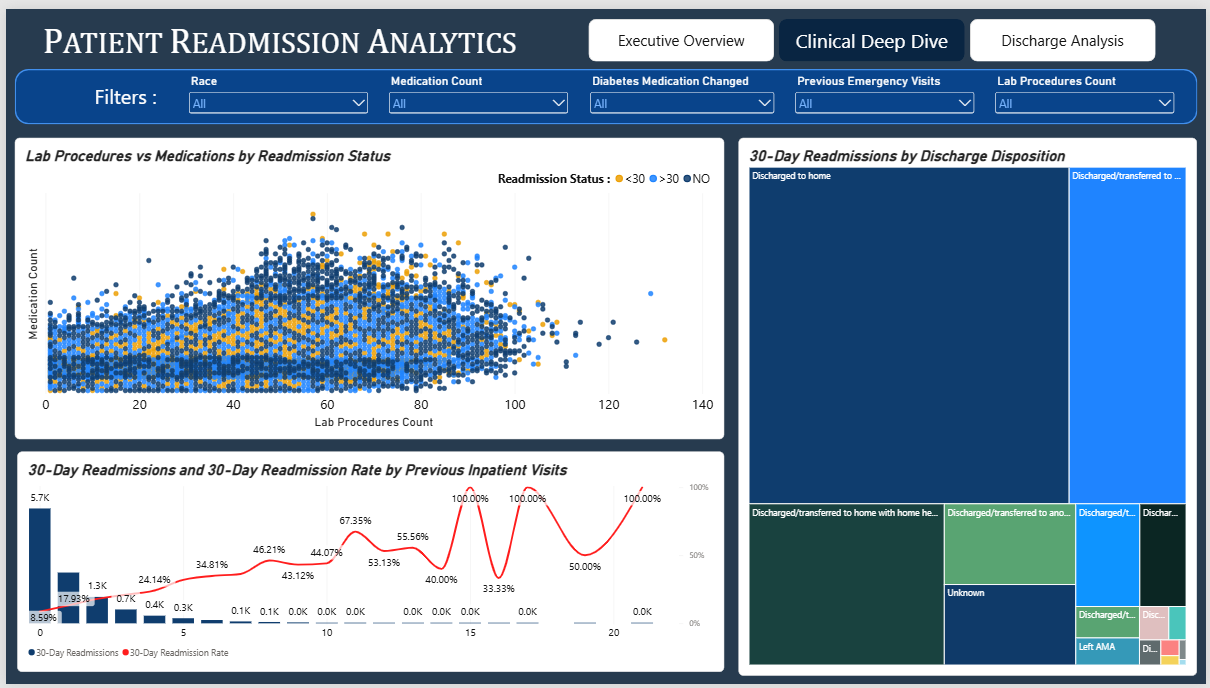

The page's visual inventory and layout, read from the dashboard file:
{"tool":"powerbi","page":{"name":"Clinical Deep Dive","canvas":[1920,1080],"ordinal":1},"visuals":[{"type":"textbox","box":[36.4,15.9,804.5,86.4],"z":0},{"type":"pageNavigator","box":[932,16.3,908.4,68.8],"z":1000},{"type":"shape","box":[13.5,96.2,1892.3,88.5],"z":2000},{"type":"lineStackedColumnComboChart","fields":{"Category":["fact_readmission.Previous Inpatient Visits"],"Y":["Measures Table.30-Day Readmissions"],"Y2":["Measures Table.30-Day Readmission Rate"]},"box":[17.6,707.8,1131.4,352.9],"z":3000},{"type":"treemap","fields":{"Group":["dim_discharge_disposition.Discharge Disposition"],"Values":["Measures Table.30-Day Readmissions"]},"box":[1172.5,205.9,733.3,860.8],"z":4000},{"type":"scatterChart","title":"Lab Procedures vs Medications by Readmission Status","fields":{"X":["fact_readmission.Lab Procedures Count"],"Y":["fact_readmission.Medication Count"],"Series":["fact_readmission.Readmission Status"]},"box":[13.7,205.9,1135.3,482.4],"z":5000},{"type":"textbox","box":[76.5,117.6,239.2,66.7],"z":6000},{"type":"slicer","fields":{"Values":["fact_readmission.Race"]},"box":[288.2,104.3,296.2,73.1],"z":7000},{"type":"slicer","fields":{"Values":["fact_readmission.Medication Count"]},"box":[608.8,104.3,296.2,73.1],"z":8000},{"type":"slicer","fields":{"Values":["fact_readmission.Diabetes Medication Changed"]},"box":[929.4,104.5,303.9,72.5],"z":9000},{"type":"slicer","fields":{"Values":["fact_readmission.Previous Emergency Visits"]},"box":[1257.8,104.3,296.2,73.1],"z":10000},{"type":"slicer","fields":{"Values":["fact_readmission.Lab Procedures Count"]},"box":[1578.4,104.3,296.2,73.1],"z":11000}]}

Visuals, with their boxes in screenshot pixels (x1, y1, x2, y2), scaled from the page's 1920x1080 canvas onto the 1210x688 screenshot:
textbox: 23,10,530,65
pageNavigator: 587,10,1160,54
shape: 9,61,1201,118
lineStackedColumnComboChart - fact_readmission.Previous Inpatient Visits x Measures Table.30-Day Readmissions: 11,451,724,676
treemap - dim_discharge_disposition.Discharge Disposition x Measures Table.30-Day Readmissions: 739,131,1201,680
"Lab Procedures vs Medications by Readmission Status" scatterChart: 9,131,724,438
textbox: 48,75,199,117
slicer - fact_readmission.Race: 182,66,368,113
slicer - fact_readmission.Medication Count: 384,66,570,113
slicer - fact_readmission.Diabetes Medication Changed: 586,67,777,113
slicer - fact_readmission.Previous Emergency Visits: 793,66,979,113
slicer - fact_readmission.Lab Procedures Count: 995,66,1181,113
